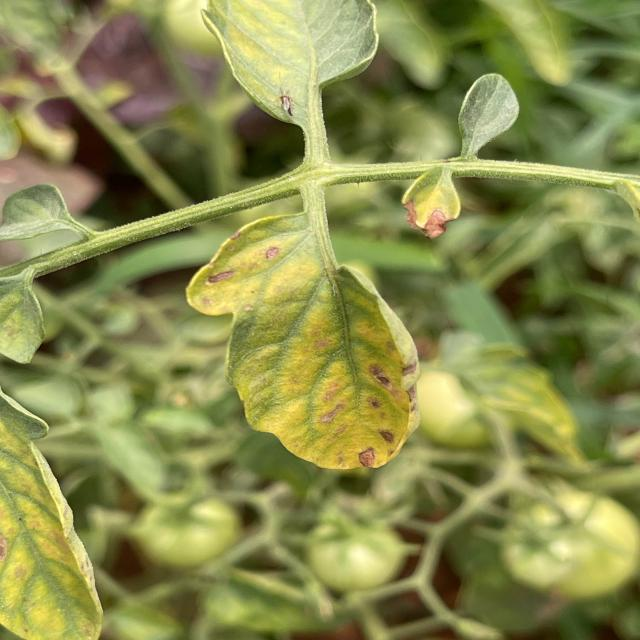tomato_early blight: (186, 213, 419, 470), (0, 393, 101, 640), (203, 0, 380, 139), (457, 345, 592, 467), (394, 162, 475, 237)
